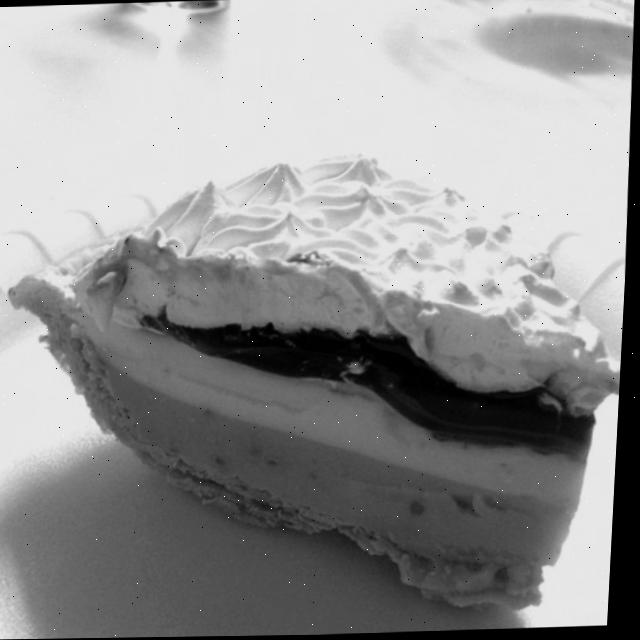蛋糕甜品: (0, 87, 627, 613)
